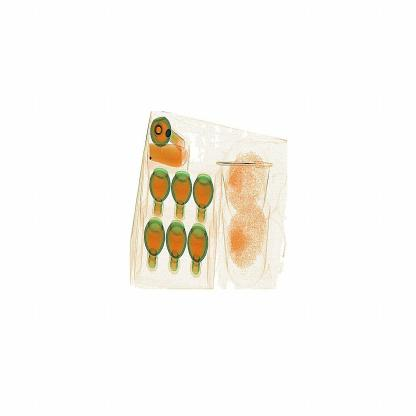pliers: (214, 150, 283, 184)
